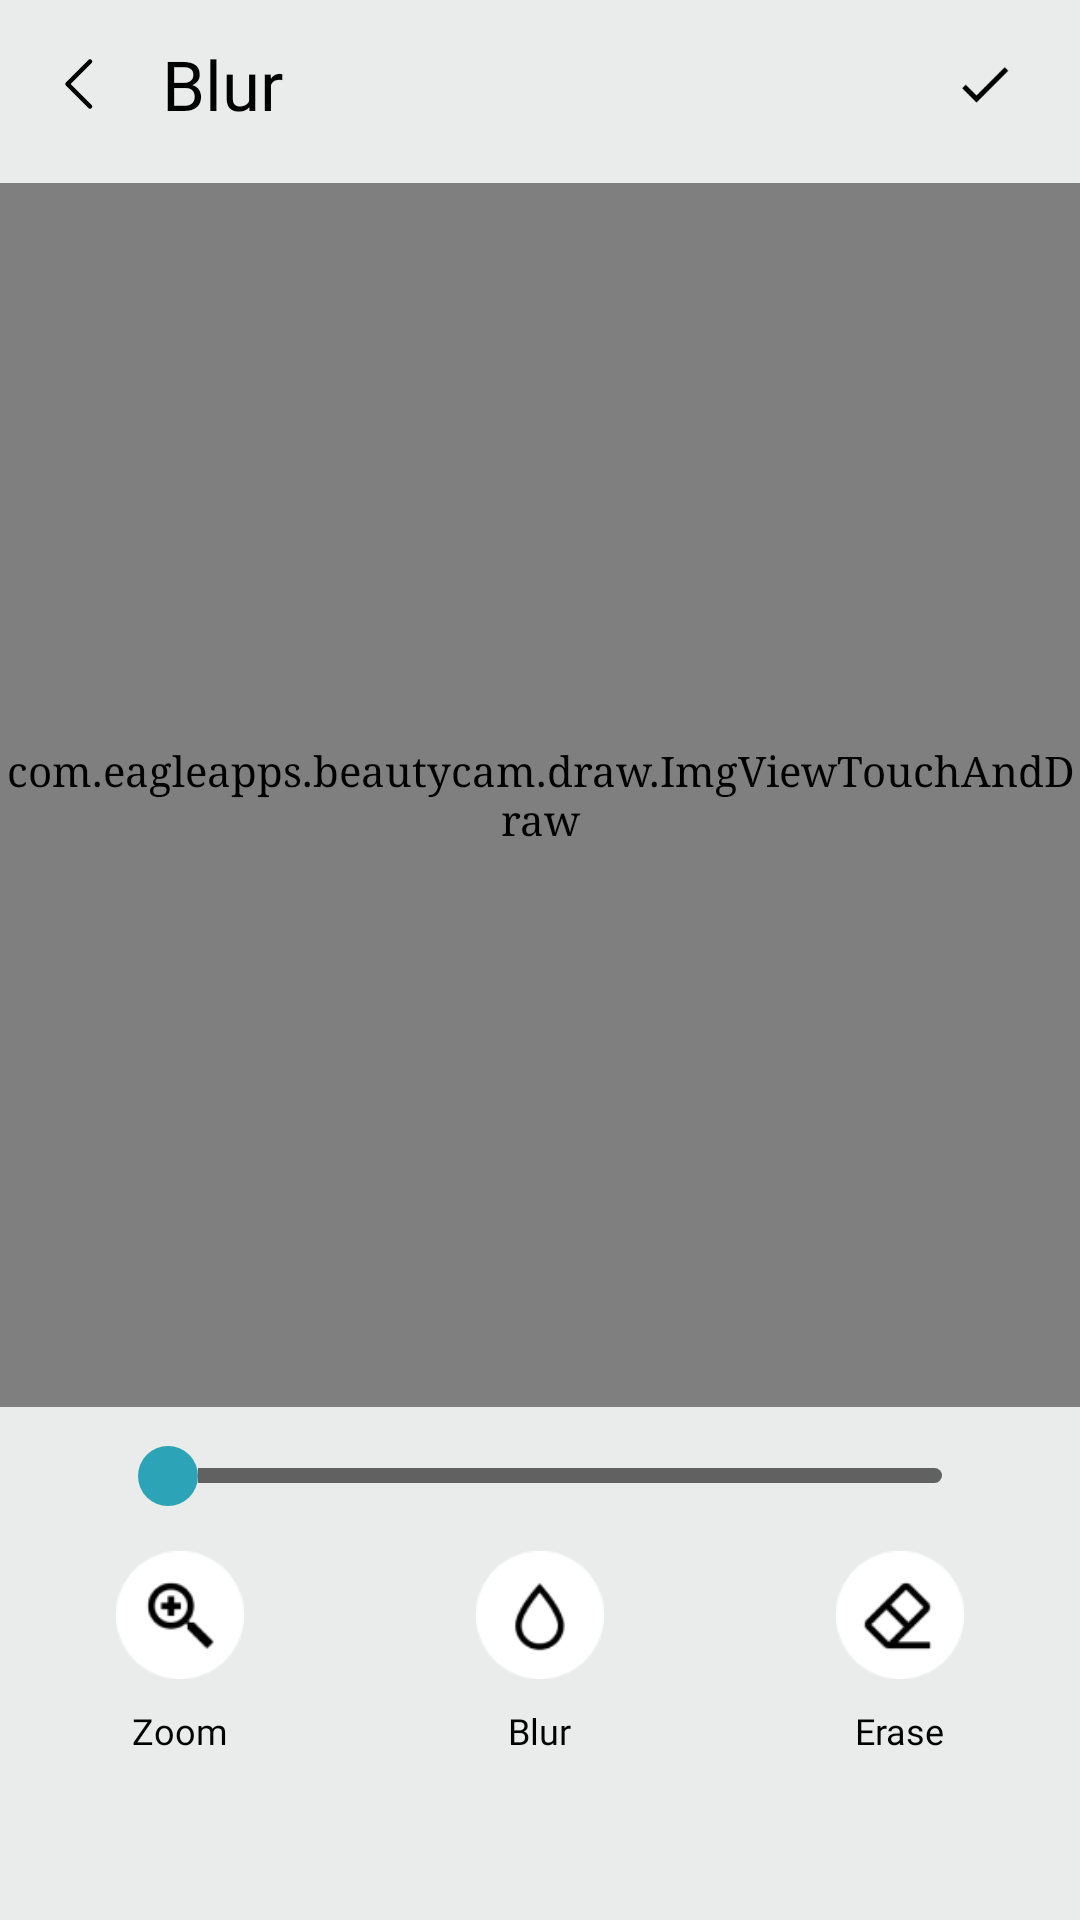

Named icons in this screenshot (1080px x 1920px) and their bounding boxes, (x1, y1, x2, y2):
back: (65, 59, 93, 109)
done: (962, 67, 1009, 103)
